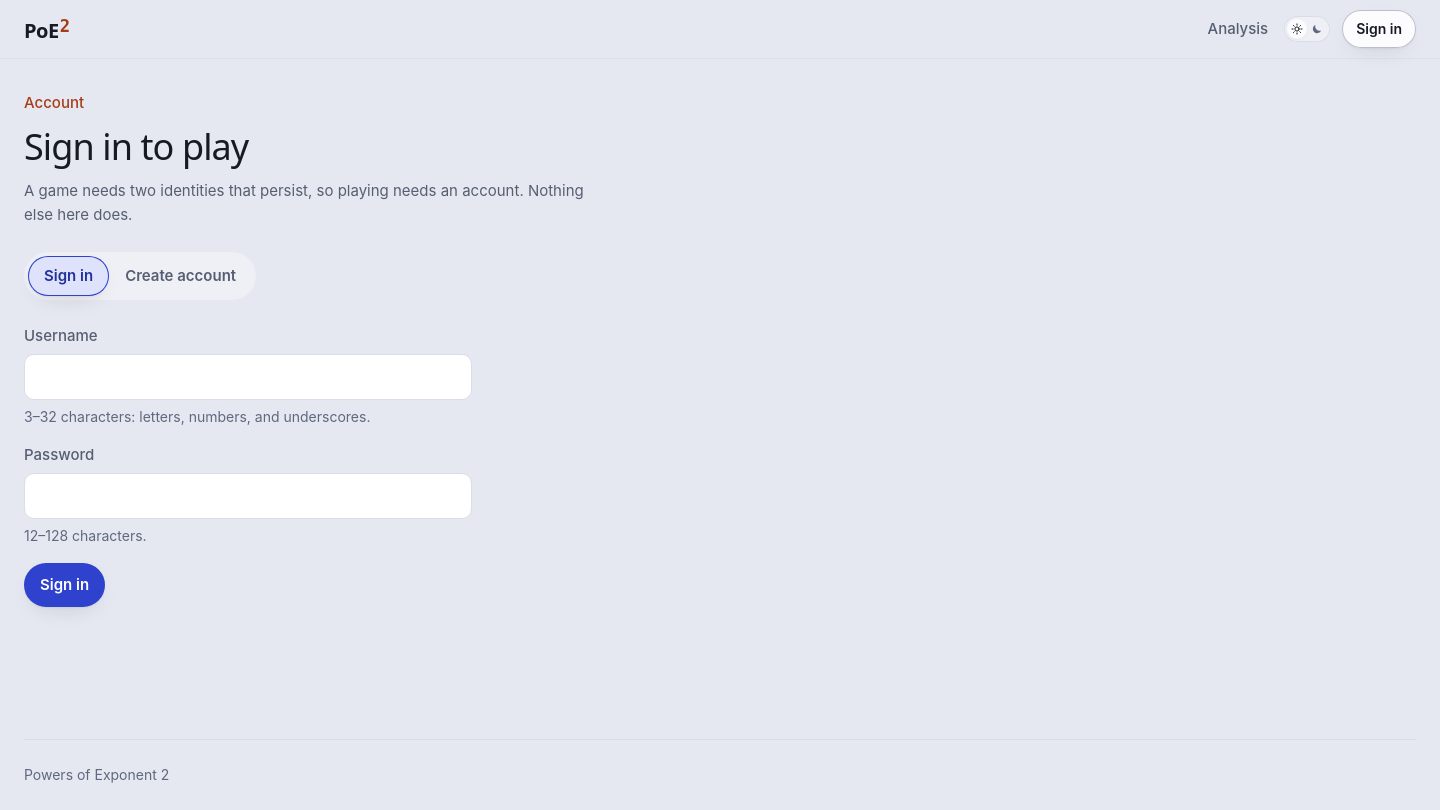
Test: AuthPage › clears a failed attempt when the other tab is chosen
expect the heading "Sign in to play" is shown: met, box [24,122,248,171]
Type "Player_One" into the field labelled "Username" at {"x": 248, "y": 377}, box [24,354,472,400]
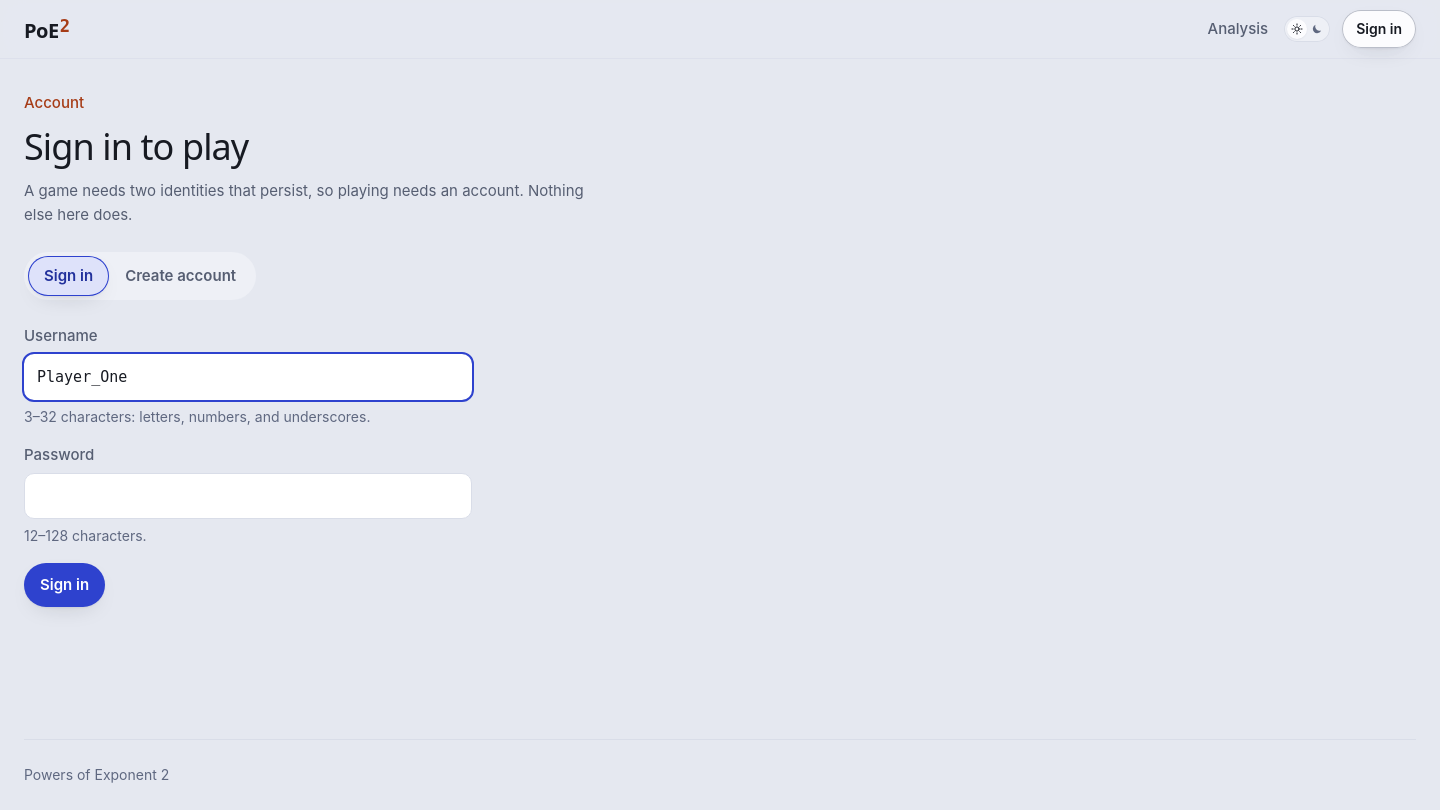
Type "correct horse battery staple" into the password field labelled "Password" at {"x": 248, "y": 496}, box [24,473,472,519]
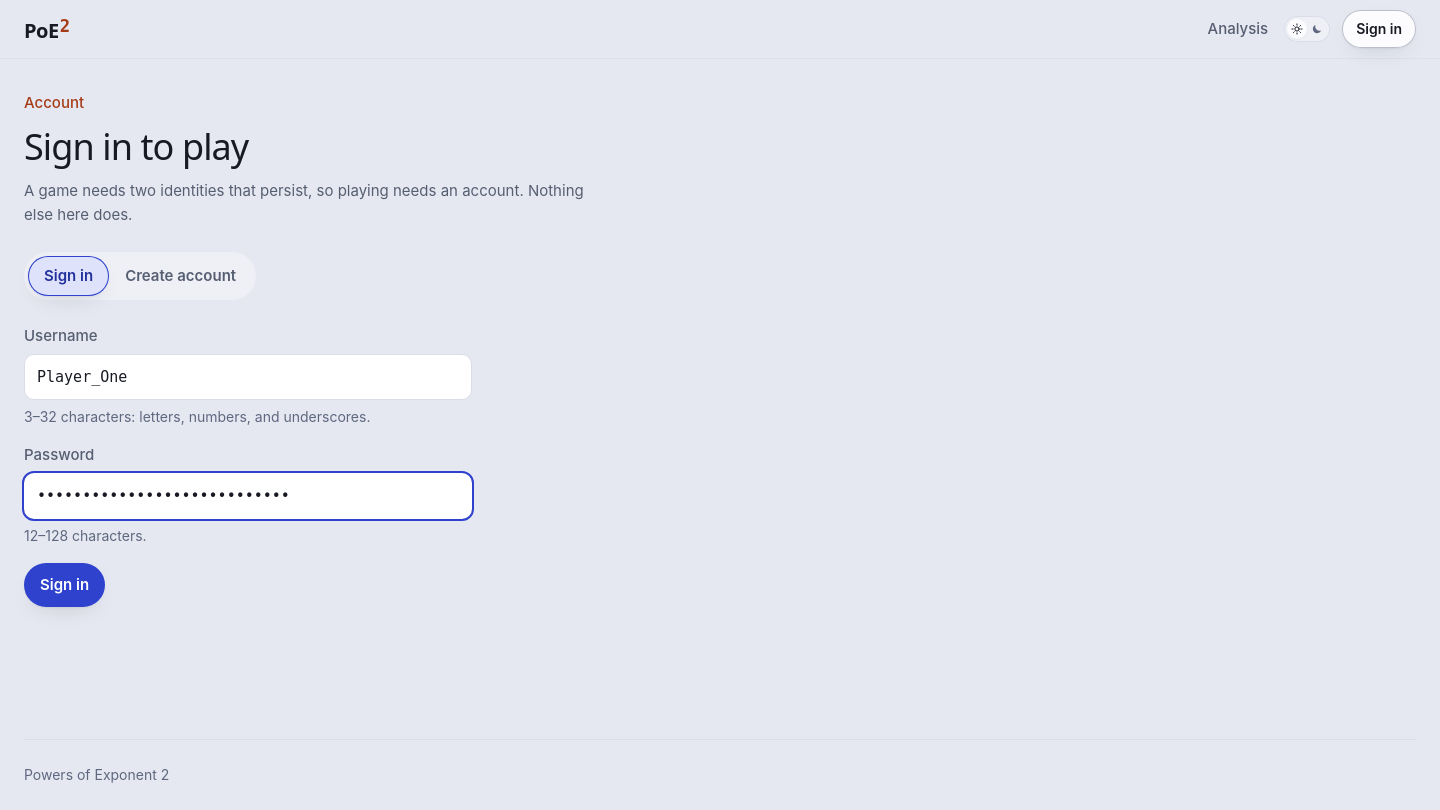
Click the button "Sign in" below "12–128 characters." at {"x": 65, "y": 585}, box [24,563,105,607]
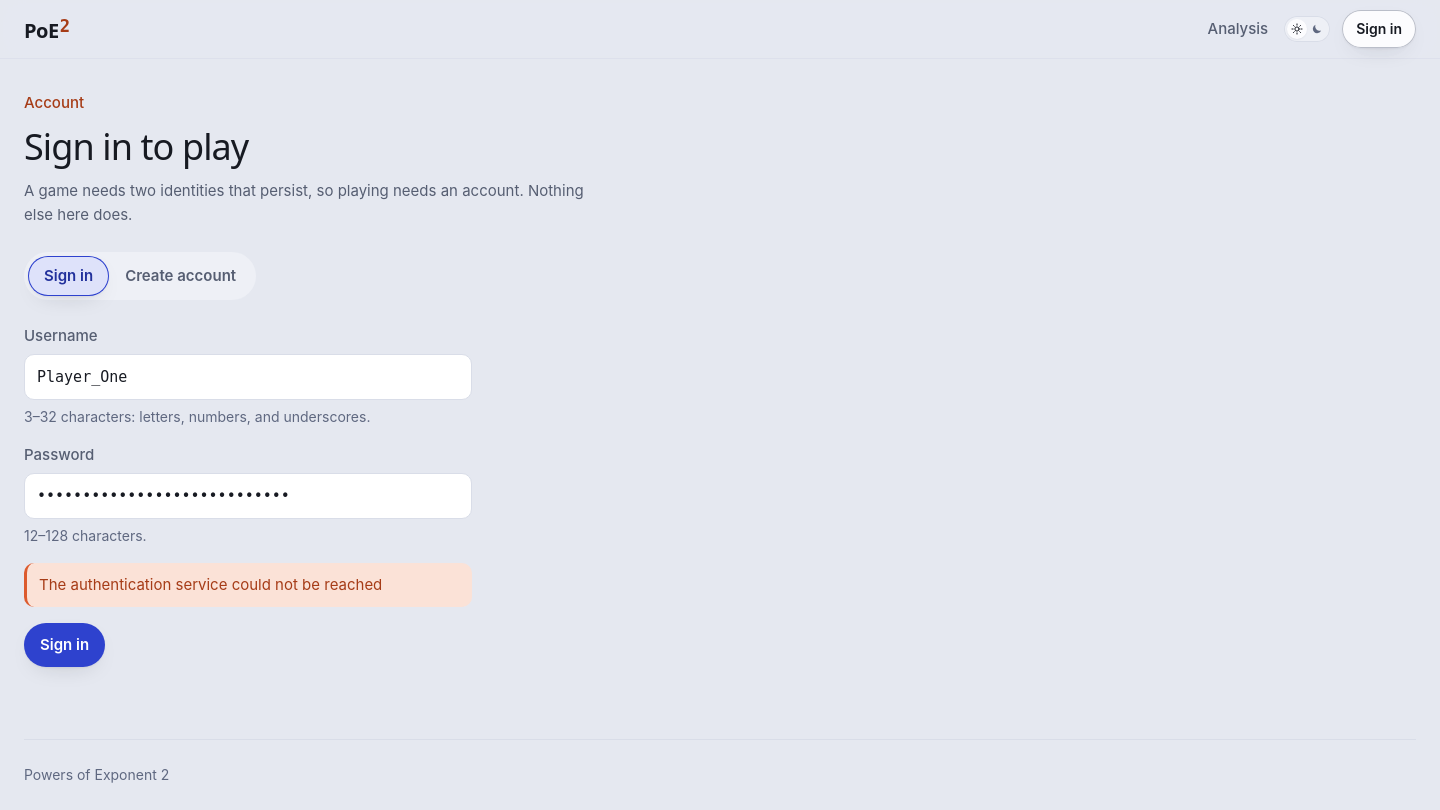
expect the message "The authentication service could not be reached" is shown: met, box [24,563,472,607]
Click the button "Create account" at {"x": 181, "y": 276}, box [109,256,252,296]
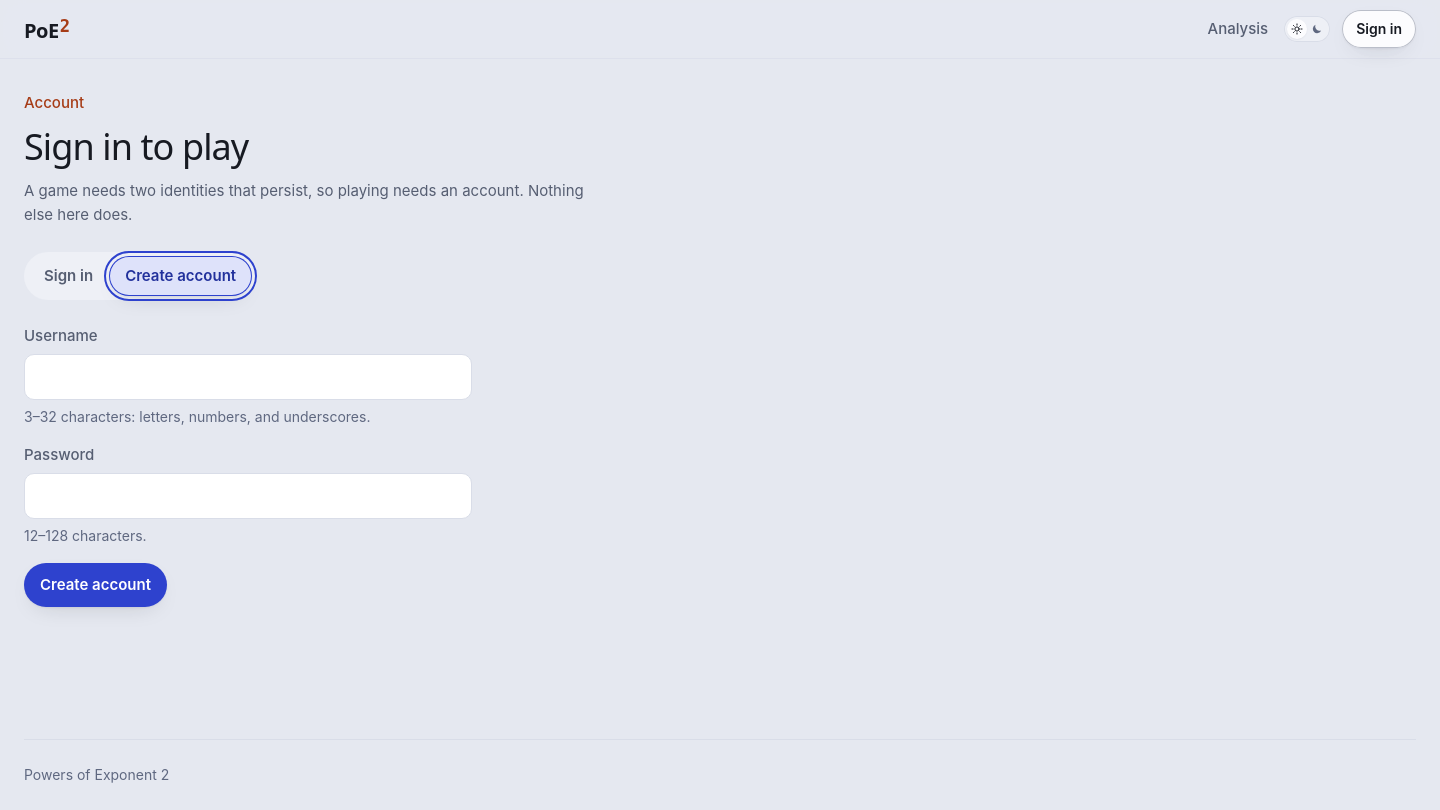
expect the message "The authentication service could not be reached" is gone: met
expect the field labelled "Username" is empty: met, box [24,354,472,400]
